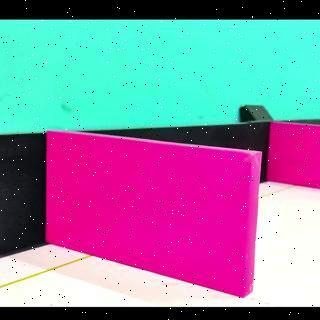xparking: (62, 156, 251, 288), (276, 130, 316, 184)
